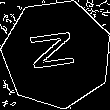N_E: (29, 31, 85, 77)
